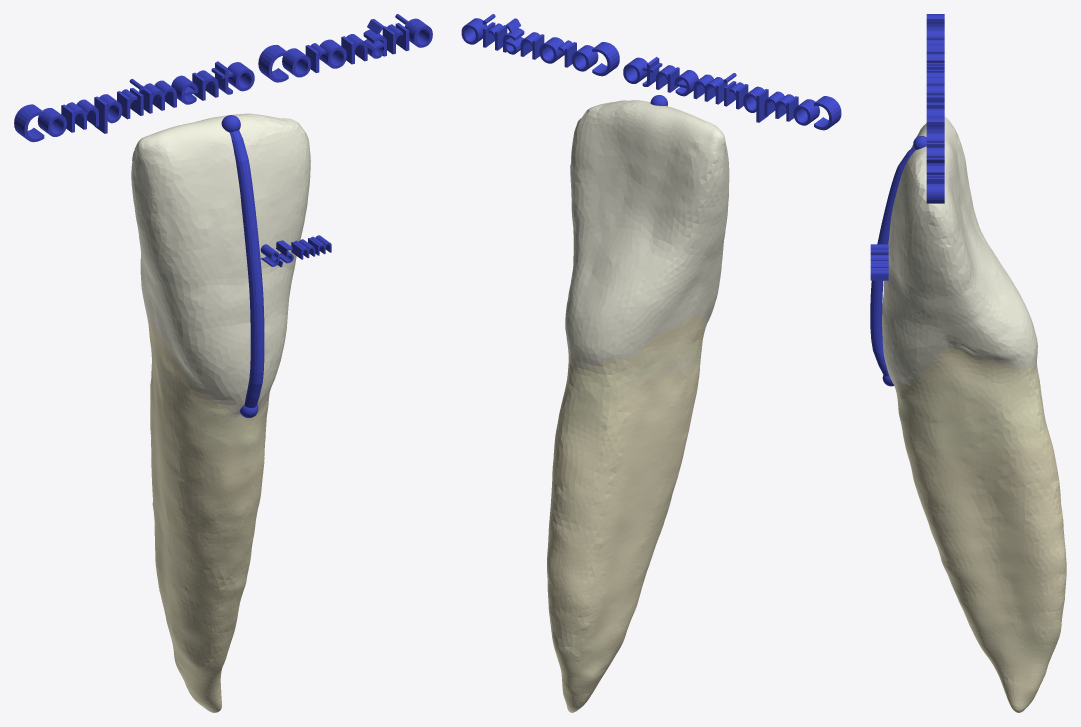
File: 32 - Comprimento Coronário.glb
3 renders of one model, left to right at view 1: azimuth 30°, elevation 25°; view 2: azimuth 150°, elevation 25°; view 3: azimuth 270°, elevation 25°, orthographic. The views are drawn at different scales.
Parts seen in each view (by area): view 1: 3MFMeshParent_0, 3MFMeshParent_2, 3MFMeshParent_3, 3MFMeshParent_1; view 2: 3MFMeshParent_0, 3MFMeshParent_2; view 3: 3MFMeshParent_0, 3MFMeshParent_2, 3MFMeshParent_3, 3MFMeshParent_1.
Part boxes in pixels (x1,y1,x2,y2): 3MFMeshParent_0: (131, 113, 310, 712); 3MFMeshParent_2: (14, 14, 432, 142); 3MFMeshParent_3: (229, 130, 264, 408); 3MFMeshParent_1: (260, 235, 331, 267); 3MFMeshParent_0: (547, 100, 729, 712); 3MFMeshParent_2: (461, 14, 841, 130); 3MFMeshParent_0: (882, 117, 1066, 712); 3MFMeshParent_2: (926, 14, 944, 203); 3MFMeshParent_3: (870, 147, 915, 376); 3MFMeshParent_1: (870, 244, 888, 280).
Size of the model in its own units: 0.3412 by 0.5564 by 0.1646.
2 materials, 1 textured.
